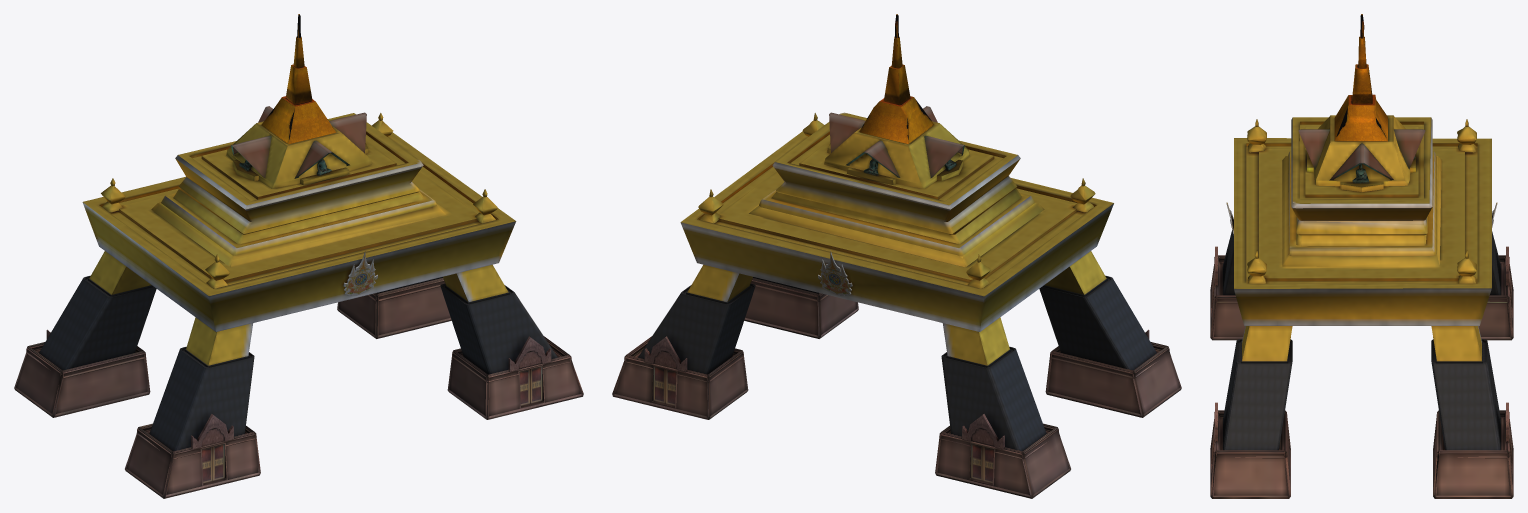
Rendered from khonkaencitygate.glb.
3 views of the same model, side by side, from view 1: azimuth 30°, elevation 25°; view 2: azimuth 150°, elevation 25°; view 3: azimuth 270°, elevation 25° (orthographic).
Visible parts, largest first — view 1: Plane_001_Baked_006_Baked-material, Plane_001_Baked_005_Baked-material, Plane_001_Baked_002_Baked-material, Plane_001_Baked_001_Baked-material, MergedBake_Baked-material, Vert_Baked-material, Plane_008_Baked-material, Vert_002_Baked_001-material; view 2: Plane_001_Baked_006_Baked-material, Plane_001_Baked_005_Baked-material, Plane_001_Baked_002_Baked-material, Plane_001_Baked_001_Baked-material, MergedBake_Baked-material, Vert_Baked-material, Plane_008_Baked-material, Vert_002_Baked_001-material; view 3: Plane_001_Baked_006_Baked-material, Plane_001_Baked_005_Baked-material, Plane_001_Baked_002_Baked-material, Plane_001_Baked_001_Baked-material, MergedBake_Baked-material, Vert_Baked-material.
Boxes of the visible parts, left/top/right/bottom form: Plane_001_Baked_006_Baked-material: left=82, top=113, right=516, bottom=365; Plane_001_Baked_005_Baked-material: left=14, top=278, right=583, bottom=498; Plane_001_Baked_002_Baked-material: left=39, top=275, right=557, bottom=451; Plane_001_Baked_001_Baked-material: left=261, top=14, right=335, bottom=144; MergedBake_Baked-material: left=231, top=106, right=366, bottom=178; Vert_Baked-material: left=46, top=329, right=551, bottom=449; Plane_008_Baked-material: left=201, top=366, right=542, bottom=483; Vert_002_Baked_001-material: left=343, top=250, right=377, bottom=295; Plane_001_Baked_006_Baked-material: left=680, top=112, right=1113, bottom=365; Plane_001_Baked_005_Baked-material: left=612, top=278, right=1181, bottom=498; Plane_001_Baked_002_Baked-material: left=638, top=275, right=1156, bottom=451; Plane_001_Baked_001_Baked-material: left=859, top=14, right=934, bottom=143; MergedBake_Baked-material: left=829, top=106, right=964, bottom=178; Vert_Baked-material: left=644, top=329, right=1149, bottom=449; Plane_008_Baked-material: left=653, top=366, right=994, bottom=483; Vert_002_Baked_001-material: left=818, top=250, right=852, bottom=295; Plane_001_Baked_006_Baked-material: left=1234, top=115, right=1491, bottom=361; Plane_001_Baked_005_Baked-material: left=1210, top=255, right=1513, bottom=498; Plane_001_Baked_002_Baked-material: left=1223, top=230, right=1500, bottom=450; Plane_001_Baked_001_Baked-material: left=1334, top=14, right=1387, bottom=141; MergedBake_Baked-material: left=1298, top=129, right=1425, bottom=180; Vert_Baked-material: left=1215, top=246, right=1508, bottom=442.
Bounding box in the file's own units: 2.2 × 1.89 × 1.36.
Materials: 12 (12 with a texture image).
